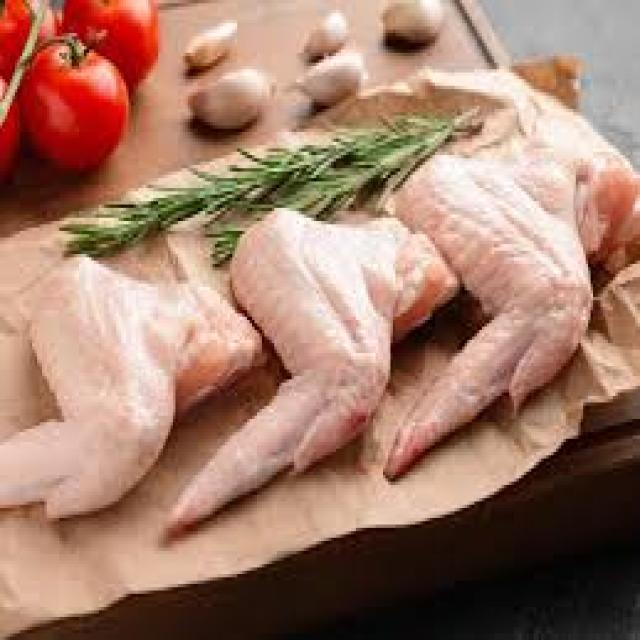wing: (389, 164, 639, 462), (196, 211, 444, 499), (0, 256, 255, 526)
